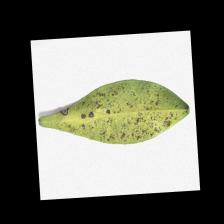canker: (57, 81, 185, 155)
